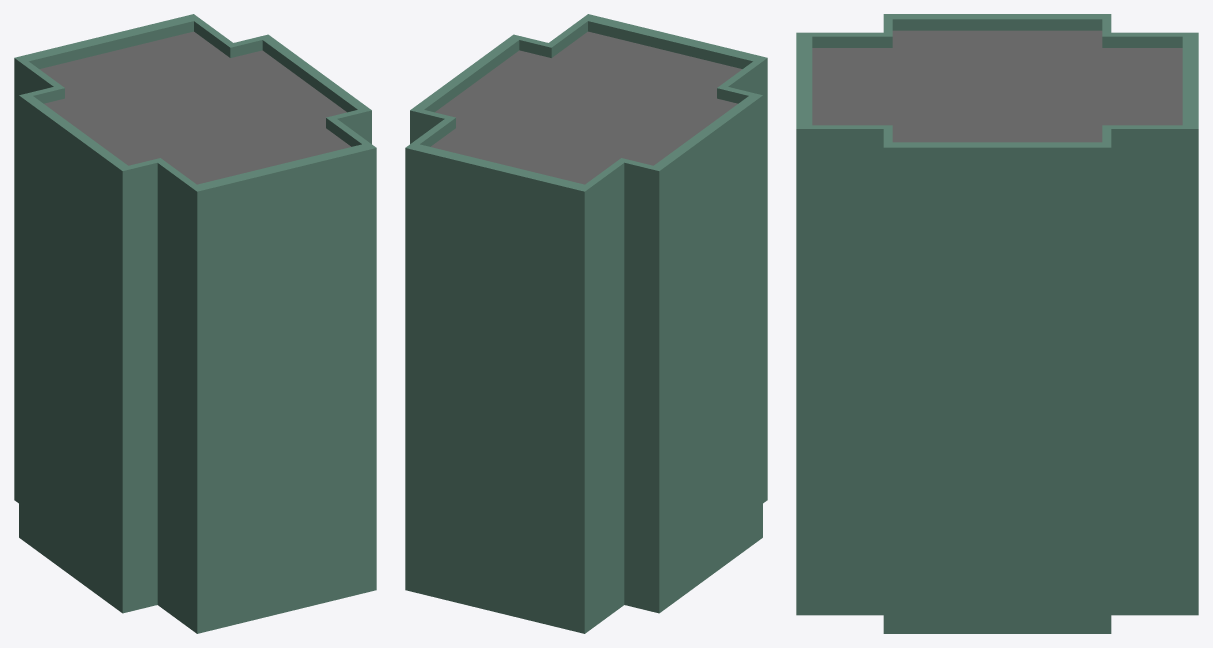
The model's file is building5.fbx.
3 renders of one model, left to right at view 1: azimuth 30°, elevation 25°; view 2: azimuth 150°, elevation 25°; view 3: azimuth 270°, elevation 25°, orthographic. The views are drawn at different scales.
Visible parts, largest first — view 1: building6; view 2: building6; view 3: building6.
Boxes of the visible parts, left/top/right/bottom form: building6: left=14, top=14, right=376, bottom=633; building6: left=405, top=14, right=767, bottom=633; building6: left=796, top=14, right=1198, bottom=633.
Size of the model in its own units: 2071 by 3510 by 2631.
